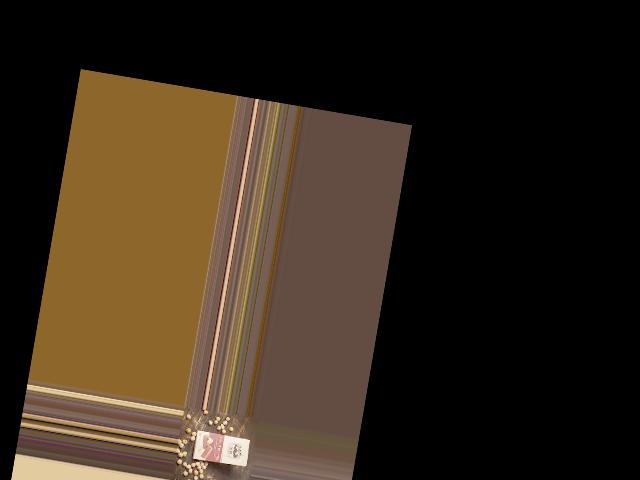chocolate: (190, 428, 252, 470)
